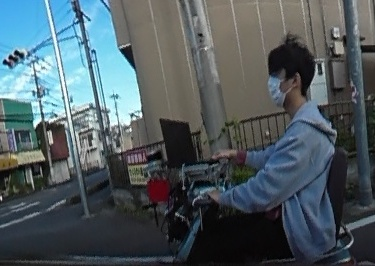person: (243, 37, 345, 266)
